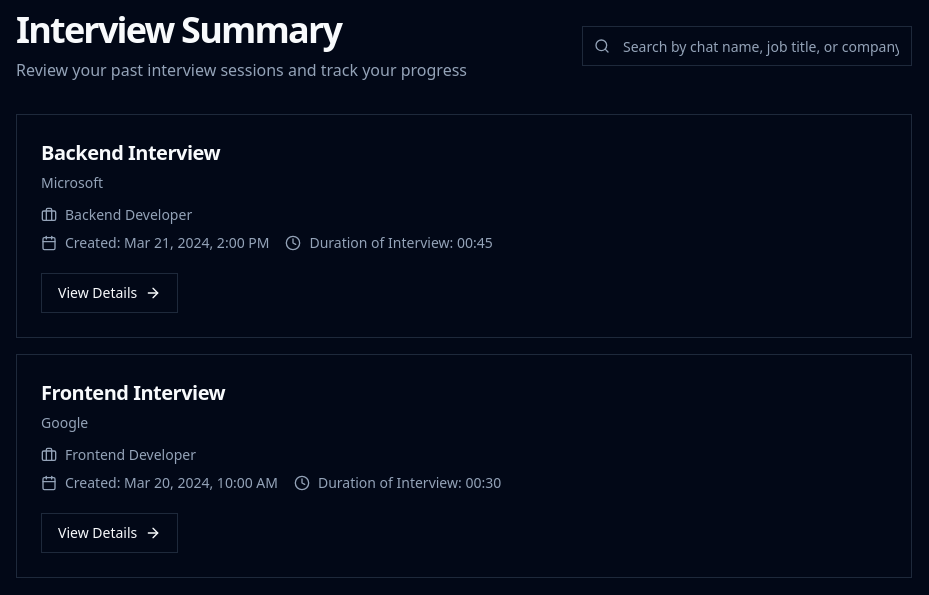
Test: SummaryPage › shows no results message when search has no matches
Expected: the text "Frontend Developer" is shown, [41,445,196,465]
Type "Nonexistent" into the field with placeholder "Search by chat name, job title, or company".
click(747, 46); type("Nonexistent")  # box [582,26,912,66]
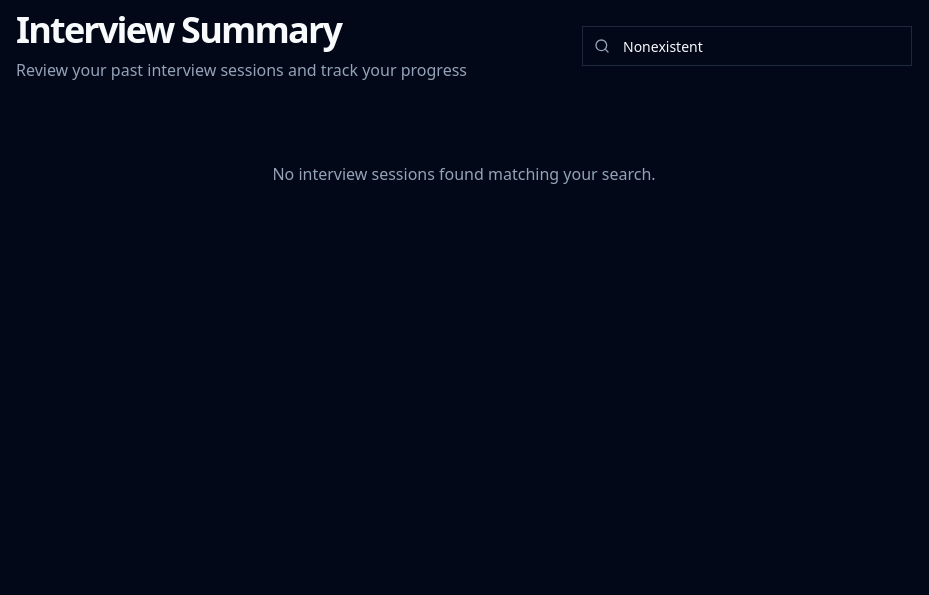
Expected: the text "No interview sessions found matching your search." is shown, [272,163,656,185]
